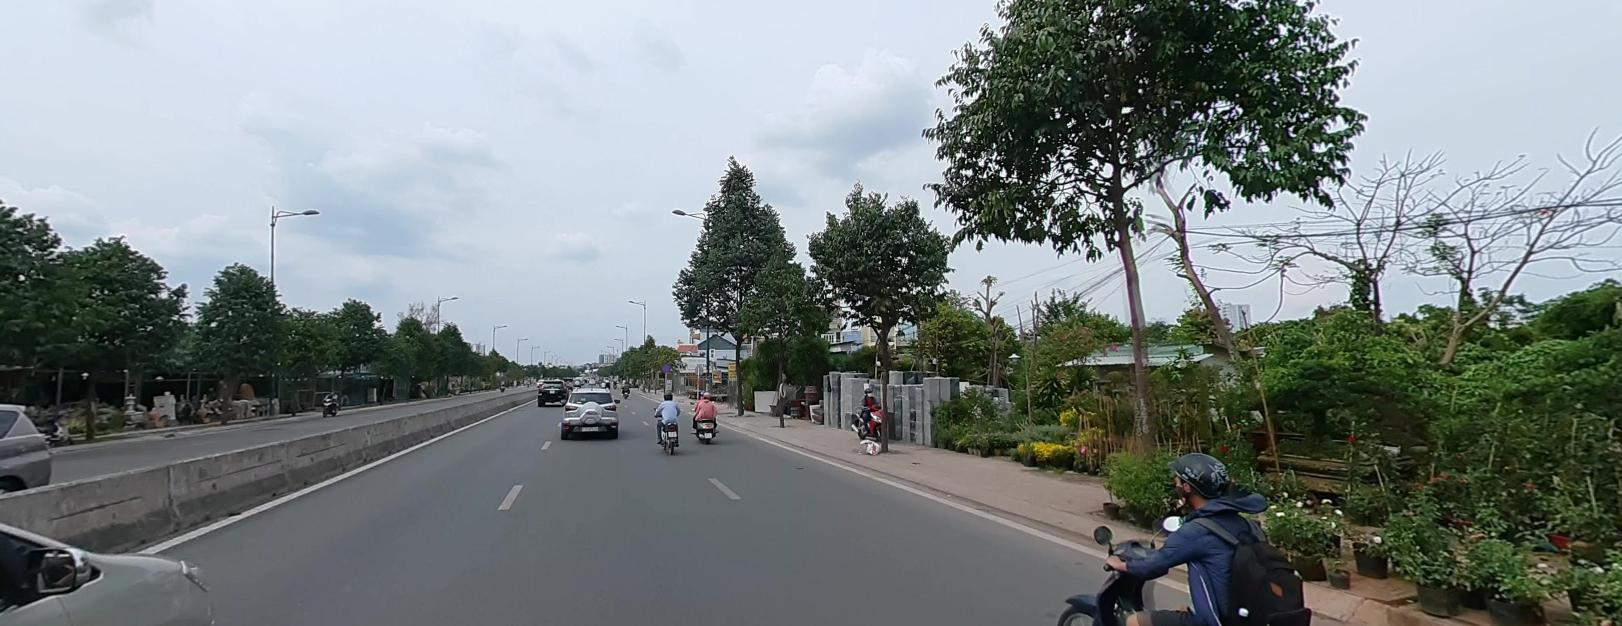Cam dung va do: (661, 361, 671, 371)
